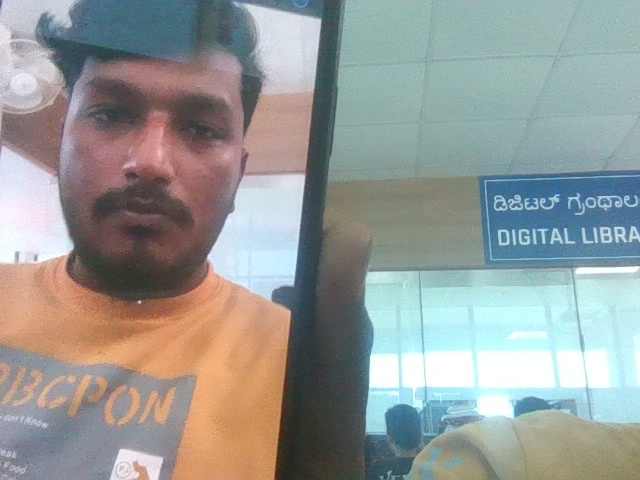fake: (29, 0, 273, 346)
